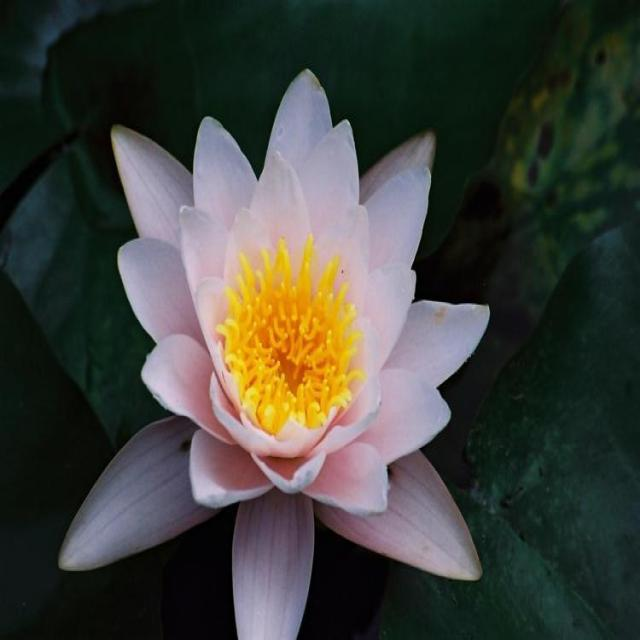rose: (56, 34, 489, 640)
